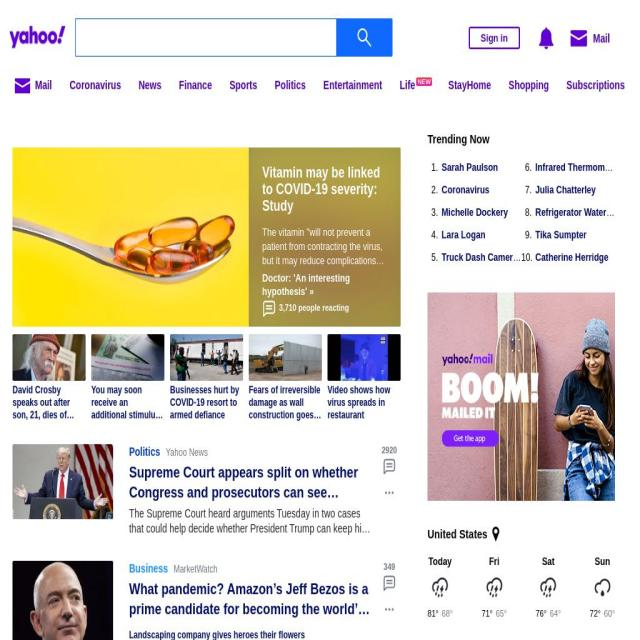button: (12, 148, 250, 326), (427, 555, 615, 619), (129, 462, 373, 502), (129, 579, 373, 619), (13, 334, 86, 422), (170, 334, 243, 422), (249, 334, 322, 422), (92, 334, 164, 422), (328, 334, 400, 422), (129, 629, 349, 640), (337, 18, 392, 57), (10, 18, 66, 48), (568, 22, 610, 52), (428, 251, 522, 264), (521, 161, 615, 174), (521, 206, 615, 219), (468, 27, 520, 49), (521, 251, 609, 264), (428, 206, 508, 219), (522, 183, 596, 197), (428, 526, 488, 542), (521, 228, 587, 242), (428, 161, 498, 174), (428, 183, 490, 197), (428, 228, 486, 242), (536, 24, 556, 54), (382, 444, 398, 475), (383, 560, 396, 592), (378, 486, 401, 502), (378, 603, 401, 619), (489, 526, 502, 542)
field: (75, 18, 336, 57)
heading: (129, 580, 369, 638), (129, 463, 359, 521), (262, 164, 389, 214), (13, 384, 86, 422), (170, 384, 243, 422), (249, 384, 322, 422), (92, 384, 164, 422), (328, 384, 400, 422), (428, 131, 522, 147), (10, 26, 66, 48), (428, 526, 488, 542)
image: (12, 148, 250, 326), (427, 292, 615, 501), (210, 102, 363, 282), (12, 561, 114, 640), (12, 444, 114, 520), (13, 334, 86, 381), (170, 334, 243, 381), (249, 334, 322, 381), (92, 334, 164, 381), (328, 334, 400, 381), (569, 26, 588, 51), (14, 74, 31, 98), (432, 577, 449, 598), (540, 577, 557, 598), (538, 28, 554, 49), (486, 577, 502, 598), (594, 577, 610, 598), (357, 28, 372, 48), (262, 300, 276, 318), (380, 602, 398, 616), (382, 458, 396, 475), (380, 486, 398, 499), (383, 575, 396, 592), (489, 526, 502, 542)
link: (262, 225, 389, 267), (323, 78, 383, 92), (566, 78, 626, 92), (69, 78, 122, 92), (448, 78, 492, 92), (508, 78, 549, 92), (178, 78, 212, 92), (274, 78, 306, 92), (230, 78, 258, 92), (138, 78, 161, 92)
text: (129, 506, 373, 536), (262, 272, 350, 298), (129, 629, 311, 640), (533, 206, 633, 218), (532, 161, 624, 173), (439, 251, 522, 263), (532, 251, 608, 263), (568, 28, 610, 48), (279, 302, 349, 314), (532, 183, 596, 196), (439, 206, 508, 218), (532, 228, 587, 241), (439, 161, 498, 173), (439, 183, 489, 196), (438, 228, 486, 241), (129, 561, 168, 576), (173, 563, 218, 576), (166, 447, 208, 459), (128, 444, 160, 459), (481, 32, 508, 44), (428, 555, 452, 568), (35, 78, 52, 92), (400, 78, 416, 92), (594, 555, 610, 568), (542, 555, 555, 568), (521, 183, 532, 197), (521, 228, 532, 242), (521, 161, 532, 174), (521, 206, 532, 219), (521, 251, 532, 264), (489, 555, 500, 568), (428, 183, 438, 197), (428, 228, 438, 242), (417, 77, 432, 86), (428, 161, 438, 174), (428, 206, 438, 219), (428, 251, 438, 264), (441, 608, 450, 618), (481, 608, 490, 618), (428, 608, 436, 618), (496, 608, 504, 618), (536, 608, 544, 618), (550, 608, 558, 618), (590, 608, 598, 618), (604, 608, 612, 618), (503, 608, 508, 618), (436, 608, 440, 618), (544, 608, 548, 618), (612, 608, 616, 618), (450, 608, 452, 618), (490, 608, 492, 618), (558, 608, 560, 618), (598, 608, 600, 618)
